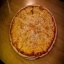pizza: (8, 3, 59, 58)
